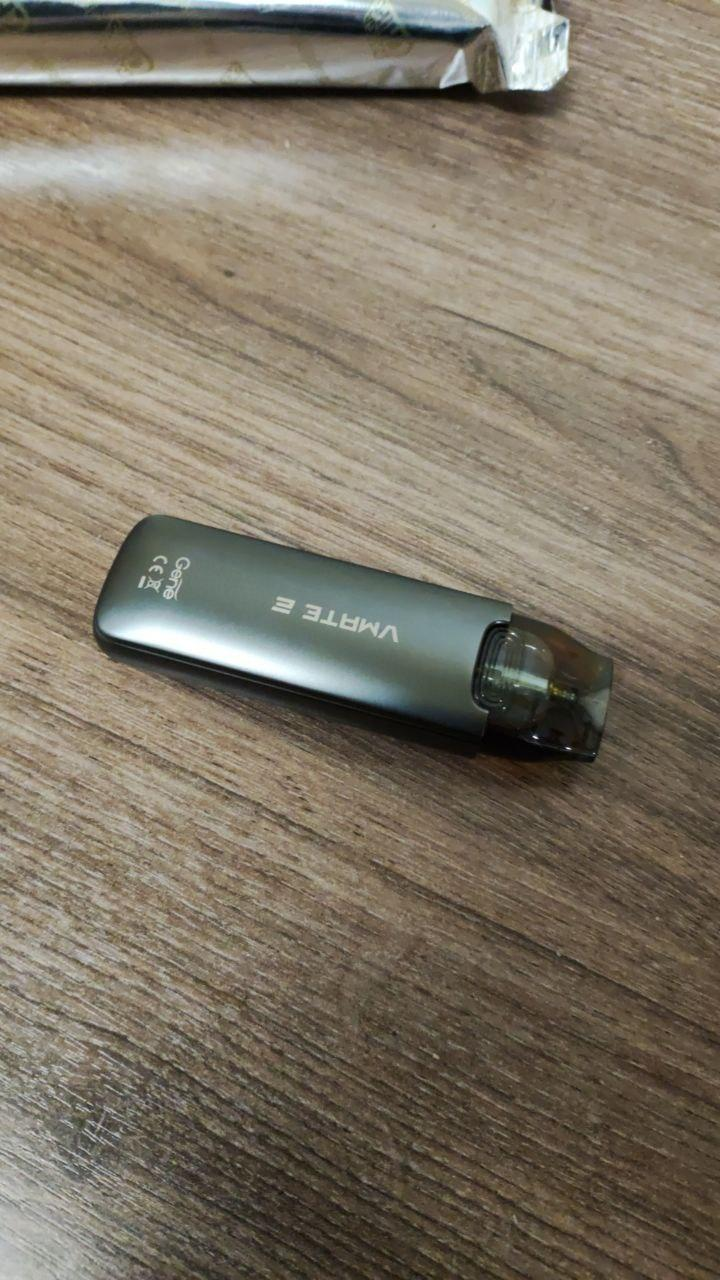Vape: (95, 516, 611, 762)
